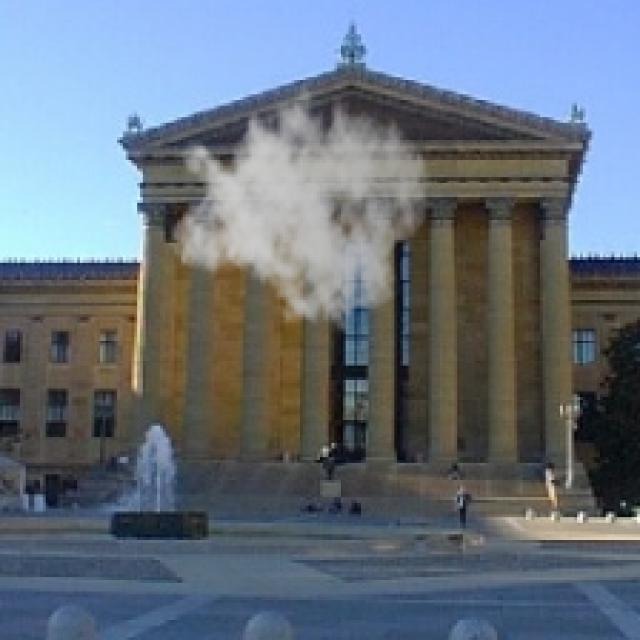smoke: (168, 69, 432, 334)
